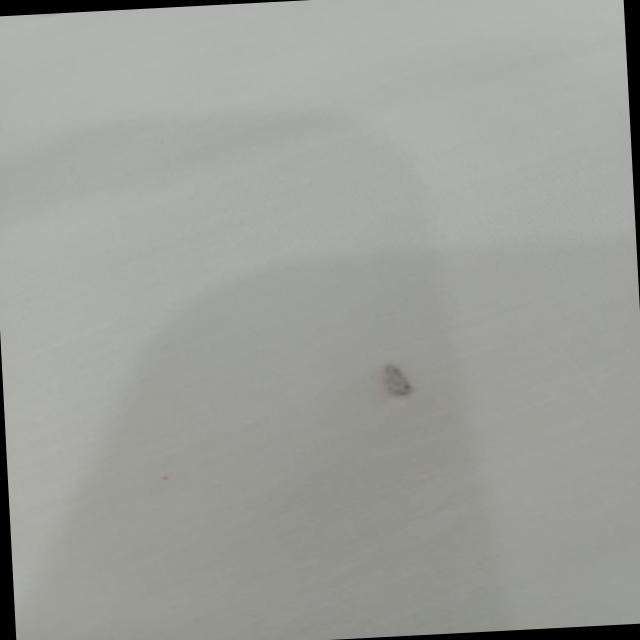stain: (362, 342, 432, 410)
